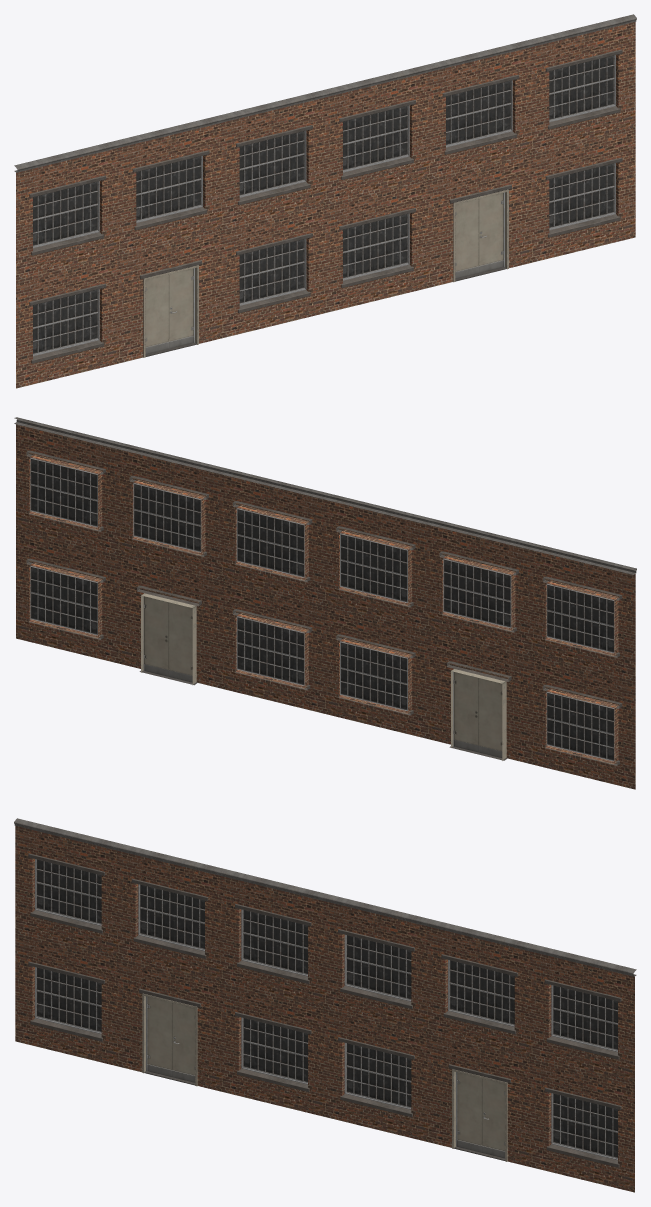
The model's file is tampa_fictional_frontage.glb.
The picture shows the model from 3 angles, top to bottom: view 1: azimuth 30°, elevation 25°; view 2: azimuth 150°, elevation 25°; view 3: azimuth 330°, elevation 25°; orthographic projection.
Visible parts, largest first — view 1: frontage_25_wall_window_centered_large_01, frontage_15_wall_window_centered_large_01, frontage_0_wall_window_centered_large_01, frontage_10_wall_window_centered_large_01, frontage_2_wall_window_centered_large_01, frontage_7_wall_window_centered_large_01, frontage_27_wall_window_centered_large_01, frontage_22_wall_window_centered_large_01, frontage_12_wall_window_centered_large_01, frontage_17_wall_window_centered_large_01, frontage_5_wall_door_centered_large_01, frontage_20_wall_door_centered_large_01 (+18 smaller); view 2: frontage_0_wall_window_centered_large_01, frontage_25_wall_window_centered_large_01, frontage_15_wall_window_centered_large_01, frontage_10_wall_window_centered_large_01, frontage_2_wall_window_centered_large_01, frontage_27_wall_window_centered_large_01, frontage_22_wall_window_centered_large_01, frontage_7_wall_window_centered_large_01, frontage_17_wall_window_centered_large_01, frontage_12_wall_window_centered_large_01, frontage_5_wall_door_centered_large_01, frontage_20_wall_door_centered_large_01 (+18 smaller); view 3: frontage_0_wall_window_centered_large_01, frontage_10_wall_window_centered_large_01, frontage_25_wall_window_centered_large_01, frontage_15_wall_window_centered_large_01, frontage_27_wall_window_centered_large_01, frontage_2_wall_window_centered_large_01, frontage_22_wall_window_centered_large_01, frontage_7_wall_window_centered_large_01, frontage_17_wall_window_centered_large_01, frontage_12_wall_window_centered_large_01, frontage_5_wall_door_centered_large_01, frontage_20_wall_door_centered_large_01 (+18 smaller).
Part boxes in pixels (x1=…): frontage_25_wall_window_centered_large_01: x1=532, y1=129, x2=635, y2=262; frontage_15_wall_window_centered_large_01: x1=325, y1=180, x2=428, y2=312; frontage_0_wall_window_centered_large_01: x1=16, y1=255, x2=119, y2=388; frontage_10_wall_window_centered_large_01: x1=222, y1=205, x2=325, y2=337; frontage_2_wall_window_centered_large_01: x1=16, y1=148, x2=119, y2=280; frontage_7_wall_window_centered_large_01: x1=119, y1=122, x2=222, y2=255; frontage_27_wall_window_centered_large_01: x1=532, y1=22, x2=635, y2=154; frontage_22_wall_window_centered_large_01: x1=429, y1=47, x2=532, y2=179; frontage_12_wall_window_centered_large_01: x1=222, y1=97, x2=325, y2=229; frontage_17_wall_window_centered_large_01: x1=325, y1=72, x2=428, y2=204; frontage_5_wall_door_centered_large_01: x1=119, y1=230, x2=222, y2=363; frontage_20_wall_door_centered_large_01: x1=429, y1=154, x2=532, y2=287; frontage_0_wall_window_centered_large_01: x1=532, y1=656, x2=635, y2=789; frontage_25_wall_window_centered_large_01: x1=16, y1=530, x2=119, y2=663; frontage_15_wall_window_centered_large_01: x1=222, y1=581, x2=325, y2=713; frontage_10_wall_window_centered_large_01: x1=325, y1=606, x2=428, y2=739; frontage_2_wall_window_centered_large_01: x1=532, y1=550, x2=635, y2=681; frontage_27_wall_window_centered_large_01: x1=16, y1=424, x2=119, y2=555; frontage_22_wall_window_centered_large_01: x1=119, y1=449, x2=222, y2=580; frontage_7_wall_window_centered_large_01: x1=429, y1=525, x2=532, y2=656; frontage_17_wall_window_centered_large_01: x1=222, y1=475, x2=325, y2=605; frontage_12_wall_window_centered_large_01: x1=325, y1=500, x2=428, y2=630; frontage_5_wall_door_centered_large_01: x1=429, y1=631, x2=532, y2=764; frontage_20_wall_door_centered_large_01: x1=119, y1=555, x2=222, y2=688; frontage_0_wall_window_centered_large_01: x1=15, y1=933, x2=118, y2=1066; frontage_10_wall_window_centered_large_01: x1=222, y1=984, x2=325, y2=1116; frontage_25_wall_window_centered_large_01: x1=531, y1=1059, x2=634, y2=1192; frontage_15_wall_window_centered_large_01: x1=325, y1=1009, x2=428, y2=1141; frontage_27_wall_window_centered_large_01: x1=531, y1=952, x2=634, y2=1084; frontage_2_wall_window_centered_large_01: x1=15, y1=826, x2=118, y2=958; frontage_22_wall_window_centered_large_01: x1=428, y1=926, x2=531, y2=1059; frontage_7_wall_window_centered_large_01: x1=118, y1=851, x2=221, y2=983; frontage_17_wall_window_centered_large_01: x1=325, y1=901, x2=428, y2=1033; frontage_12_wall_window_centered_large_01: x1=222, y1=876, x2=325, y2=1008; frontage_5_wall_door_centered_large_01: x1=118, y1=958, x2=221, y2=1091; frontage_20_wall_door_centered_large_01: x1=428, y1=1034, x2=531, y2=1167.
Bounding box in the file's own units: 18 × 6.15 × 0.2728.
5 materials, 5 textured.
